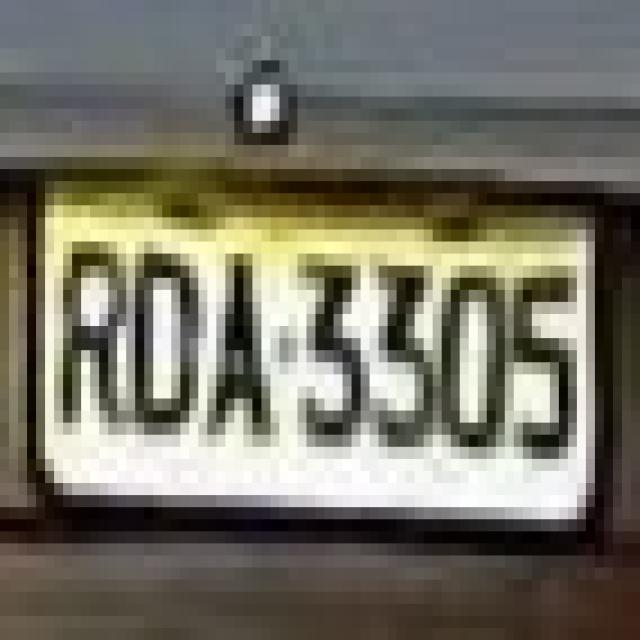license-plate: (36, 143, 608, 551)
